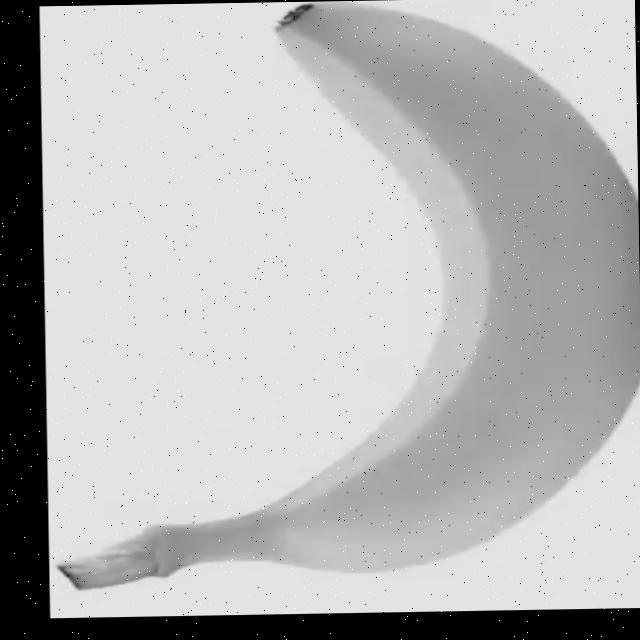banana: (49, 0, 640, 590)
